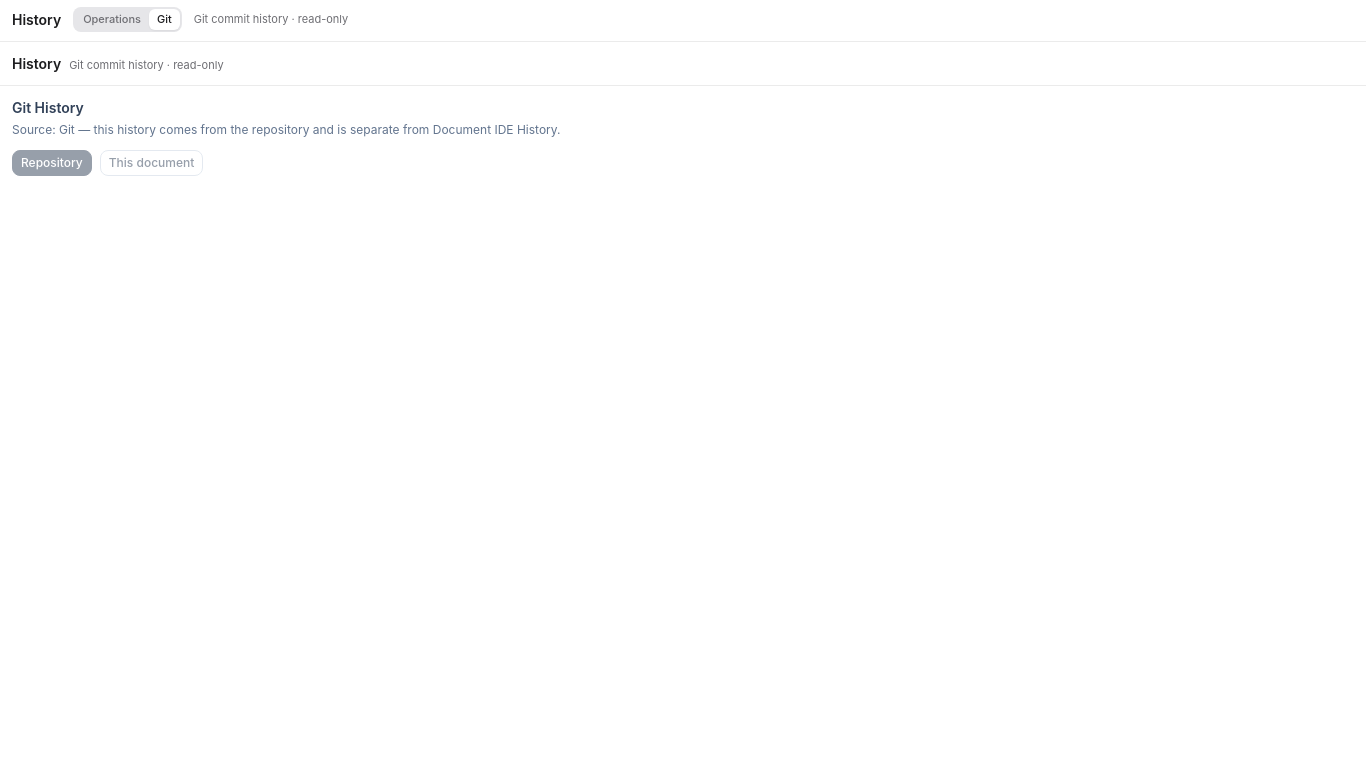
Scenario: HistoryScreen (UI-03 screen 10) › opens the undo conflict review from a real undo result and keeps it actionable
What coordinates should you click on to do the following:
click the radio button labelled "Operations"
I would click on:
 (112, 20)
Its box is x1=75 y1=9 x2=149 y2=30.
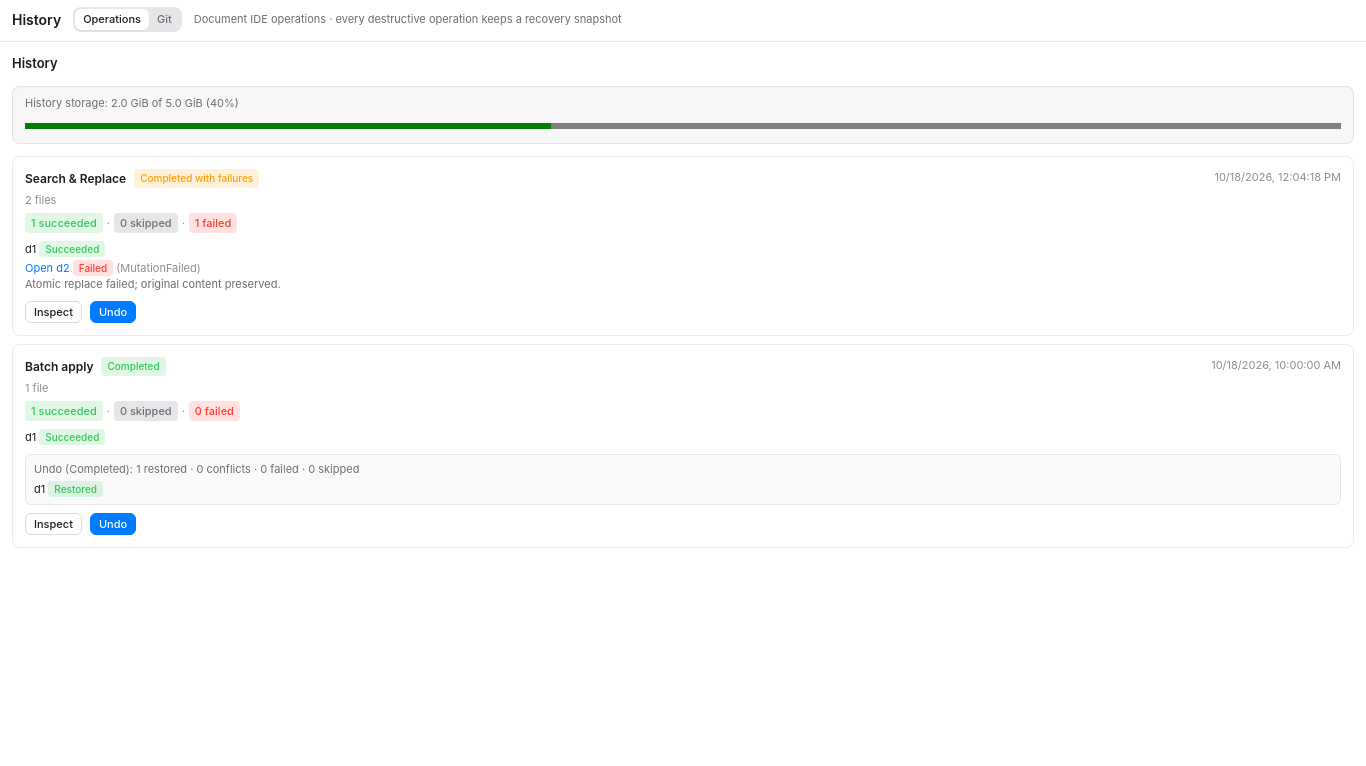
What coordinates should you click on to do the following:
click the button "Undo" below "Search & Replace"
I would click on:
 (113, 312)
Its box is x1=90 y1=300 x2=136 y2=323.
(page scrolled)
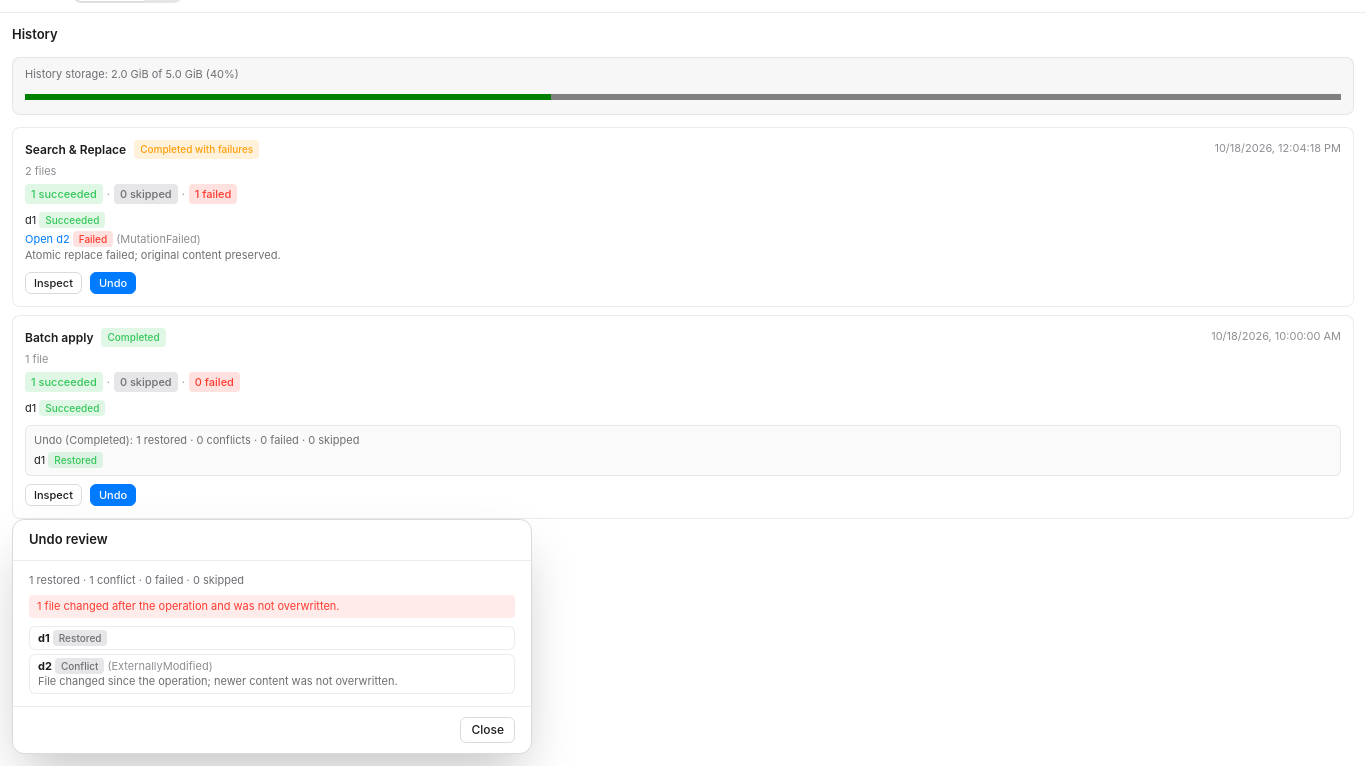
Expected: the text with test id "undo-conflict-warning" shows "1 file changed after the operation and was not overwritten", x1=29 y1=595 x2=515 y2=618
Expected: the text "Restored" below "changed after the operation and" is shown, x1=59 y1=632 x2=102 y2=644
Expected: the text "Conflict" is shown, x1=55 y1=658 x2=104 y2=674
What coordinates should you click on to do the following:
click the button "Close"
I would click on:
 (488, 730)
Its box is x1=460 y1=717 x2=515 y2=743.
(page scrolled)
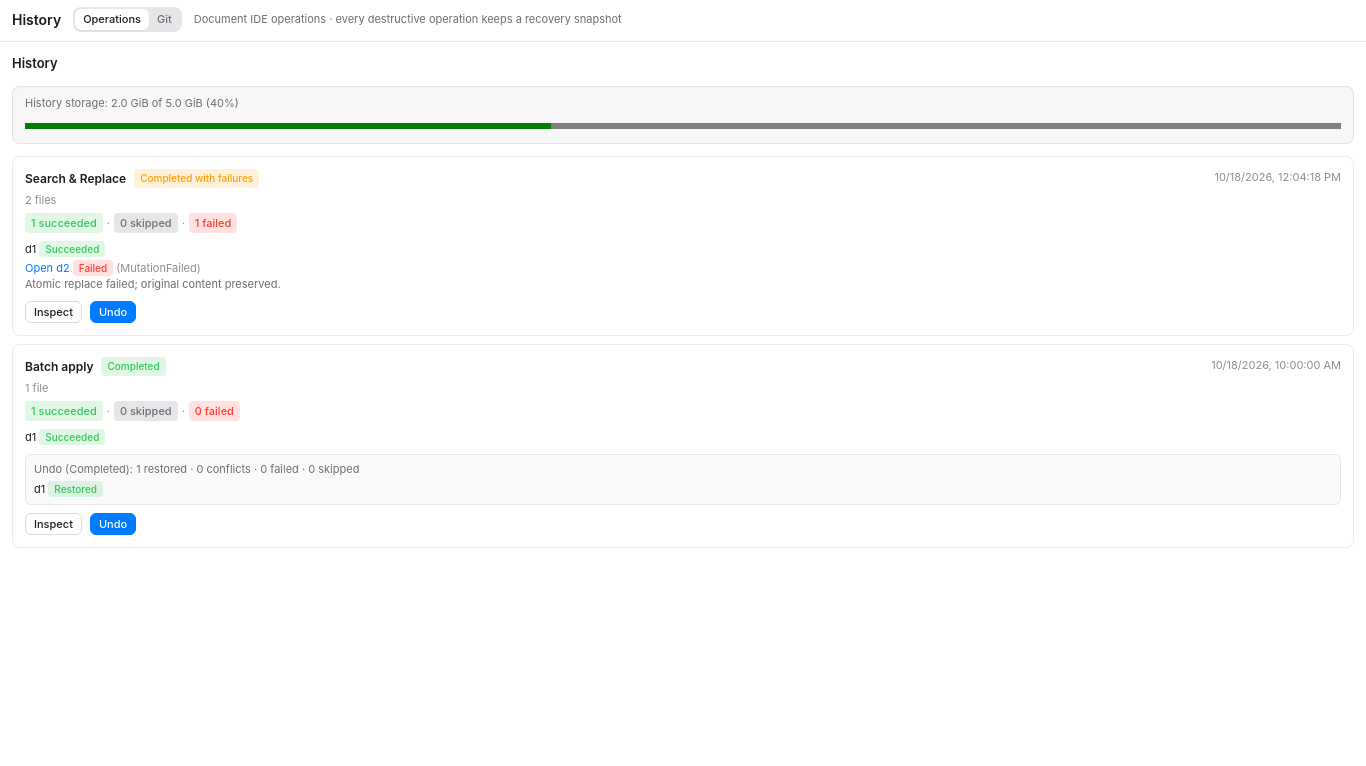
Expected: the heading "Undo review" is gone
